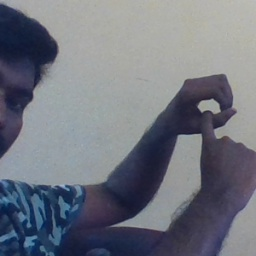Q: (149, 73, 256, 204)
